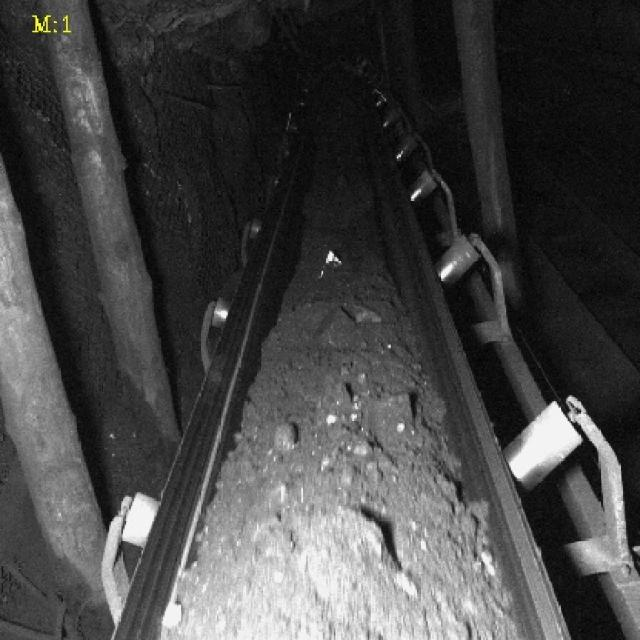large_sized_coal: (301, 505, 417, 600)
